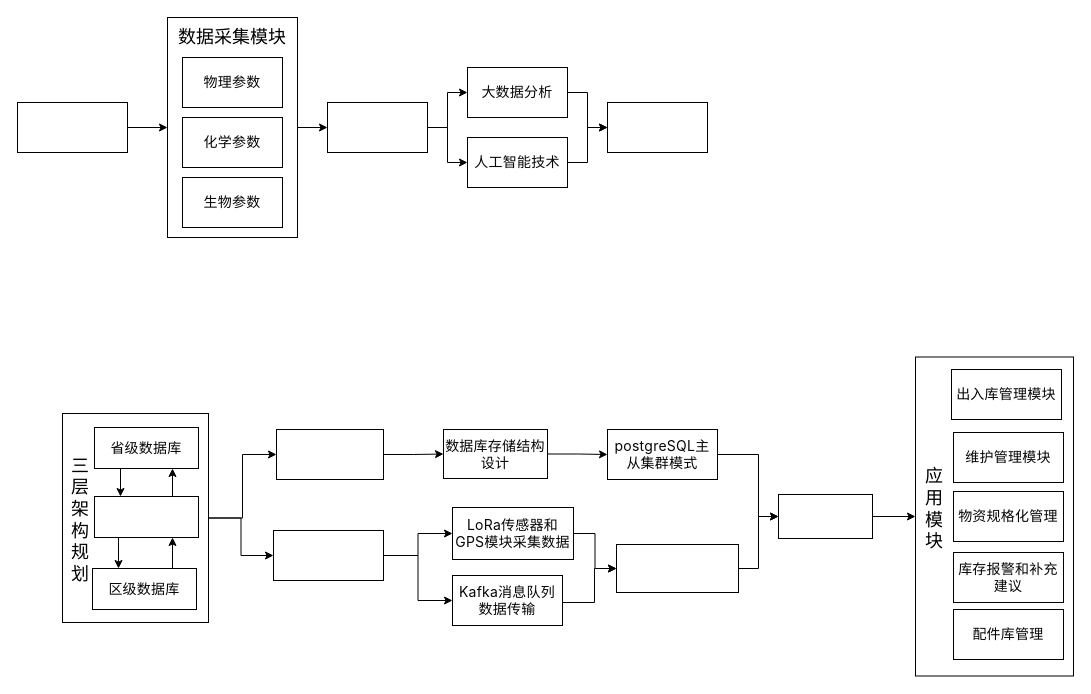
This 1091x694 diagram has some shape labels left out. The shapes that lost their labels are listed below. From the top down, each one's centre as x and y in pixels, then its label:
At pixel 72 127: "部署传感器和遥感设备".
At pixel 377 127: "构建数据处理框架".
At pixel 657 127: "采集与处理模型建立".
At pixel 330 454: "静态基础数据层".
At pixel 146 517: "市级数据库".
At pixel 825 516: "API调用".
At pixel 328 555: "动态实时数据层".
At pixel 677 568: "InfluxDB记录资源实时状态".
